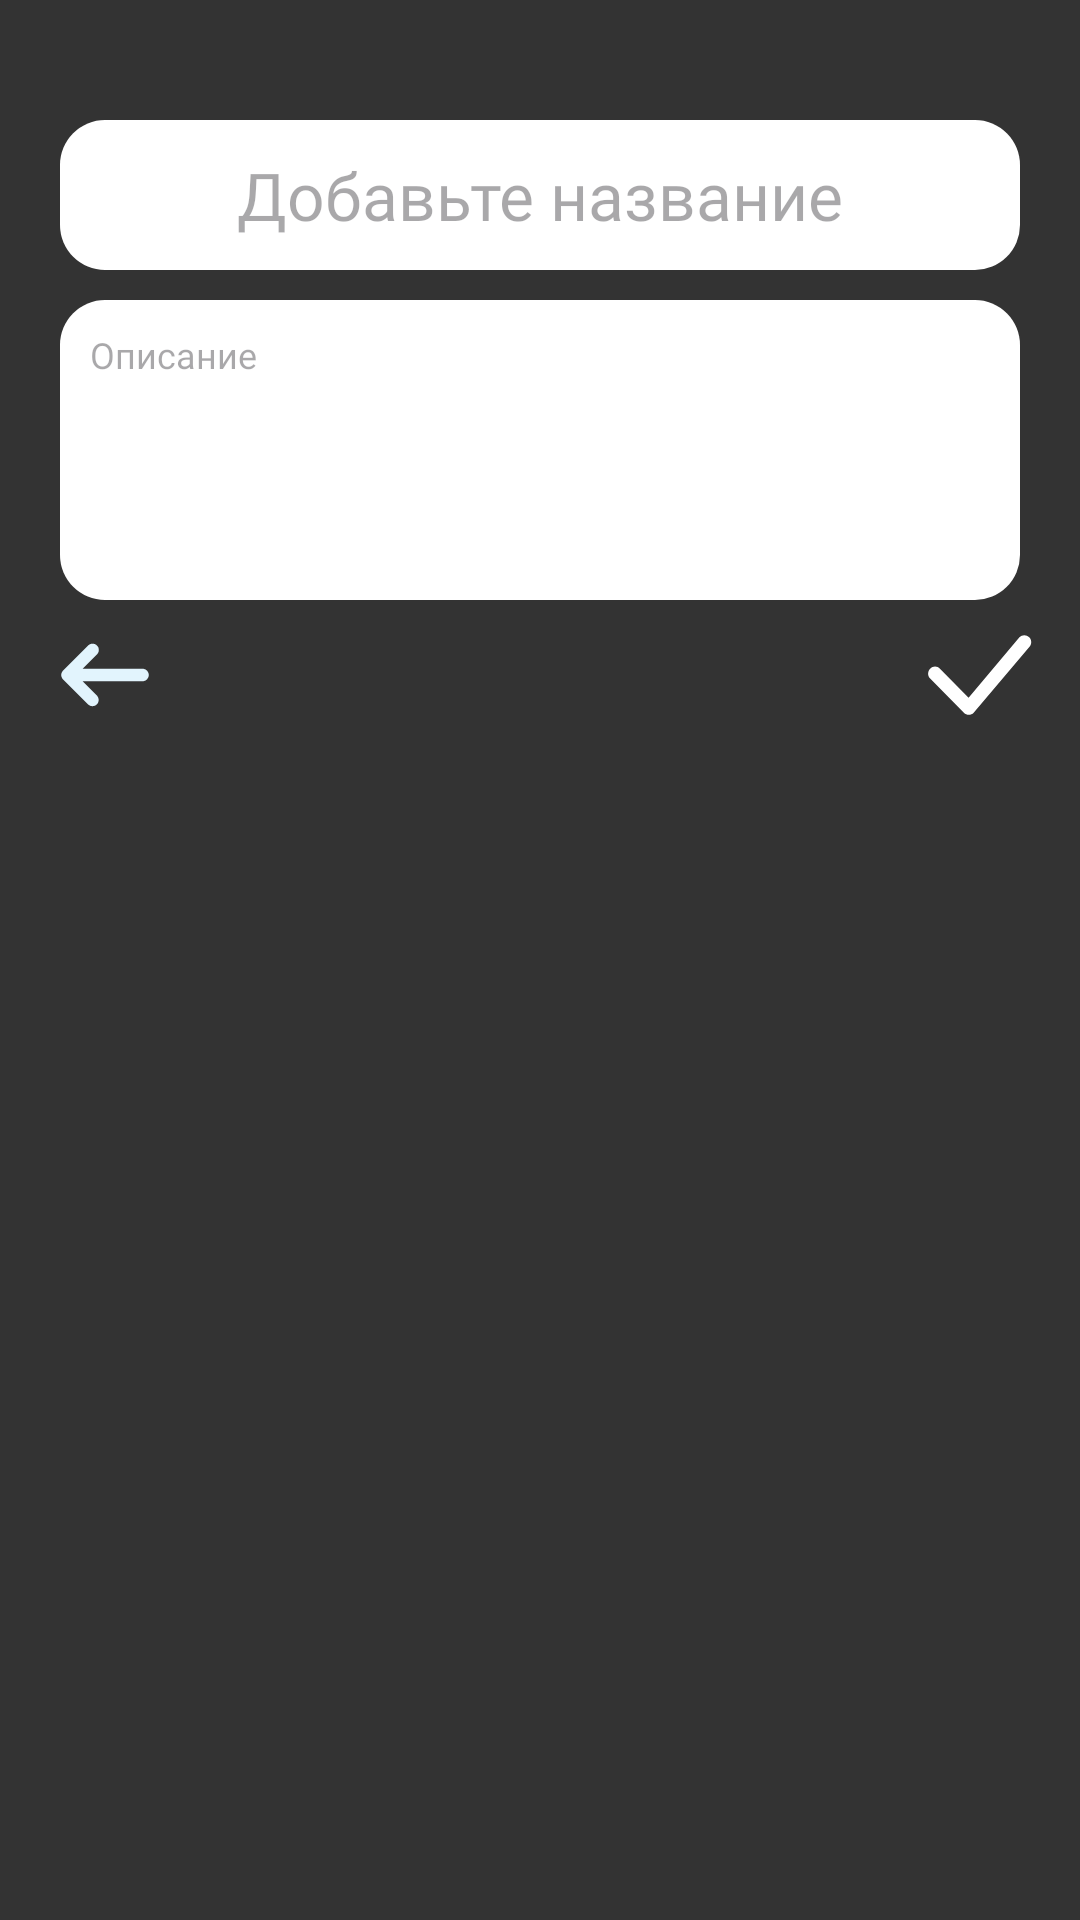

Icon bounding boxes for this 1080 x 1920 phone screenshot, format detection(x1, y1, x2, y2):
arrow left: detection(61, 643, 149, 707)
check lg: detection(928, 635, 1032, 715)
